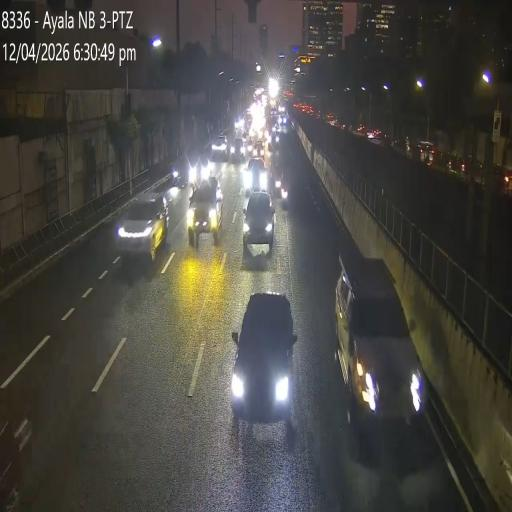Car: (337, 250, 427, 438), (236, 285, 298, 440), (116, 196, 170, 262), (186, 174, 224, 247), (242, 187, 276, 250), (188, 148, 214, 190), (244, 156, 268, 197), (172, 144, 190, 192), (209, 132, 229, 162), (230, 136, 246, 164), (250, 138, 266, 163)
Motor: (280, 169, 290, 206), (274, 165, 282, 197)
Not Accident: (242, 138, 276, 258), (186, 152, 222, 246), (173, 146, 214, 192), (211, 130, 245, 166), (273, 165, 289, 209)
